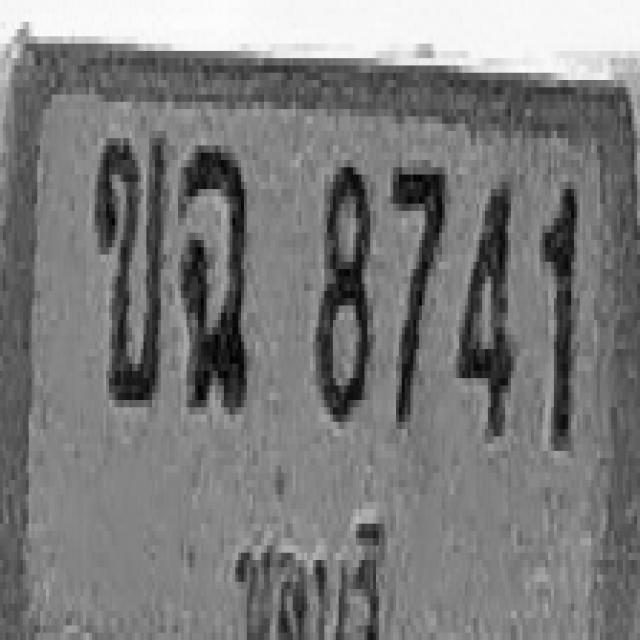1: (541, 178, 575, 440)
11KhorKhai: (93, 131, 165, 400)
18ChorChing: (180, 138, 248, 407)
4: (458, 178, 512, 433)
7: (392, 160, 446, 422)
8: (316, 156, 370, 418)
Chonburi: (227, 490, 406, 640)
